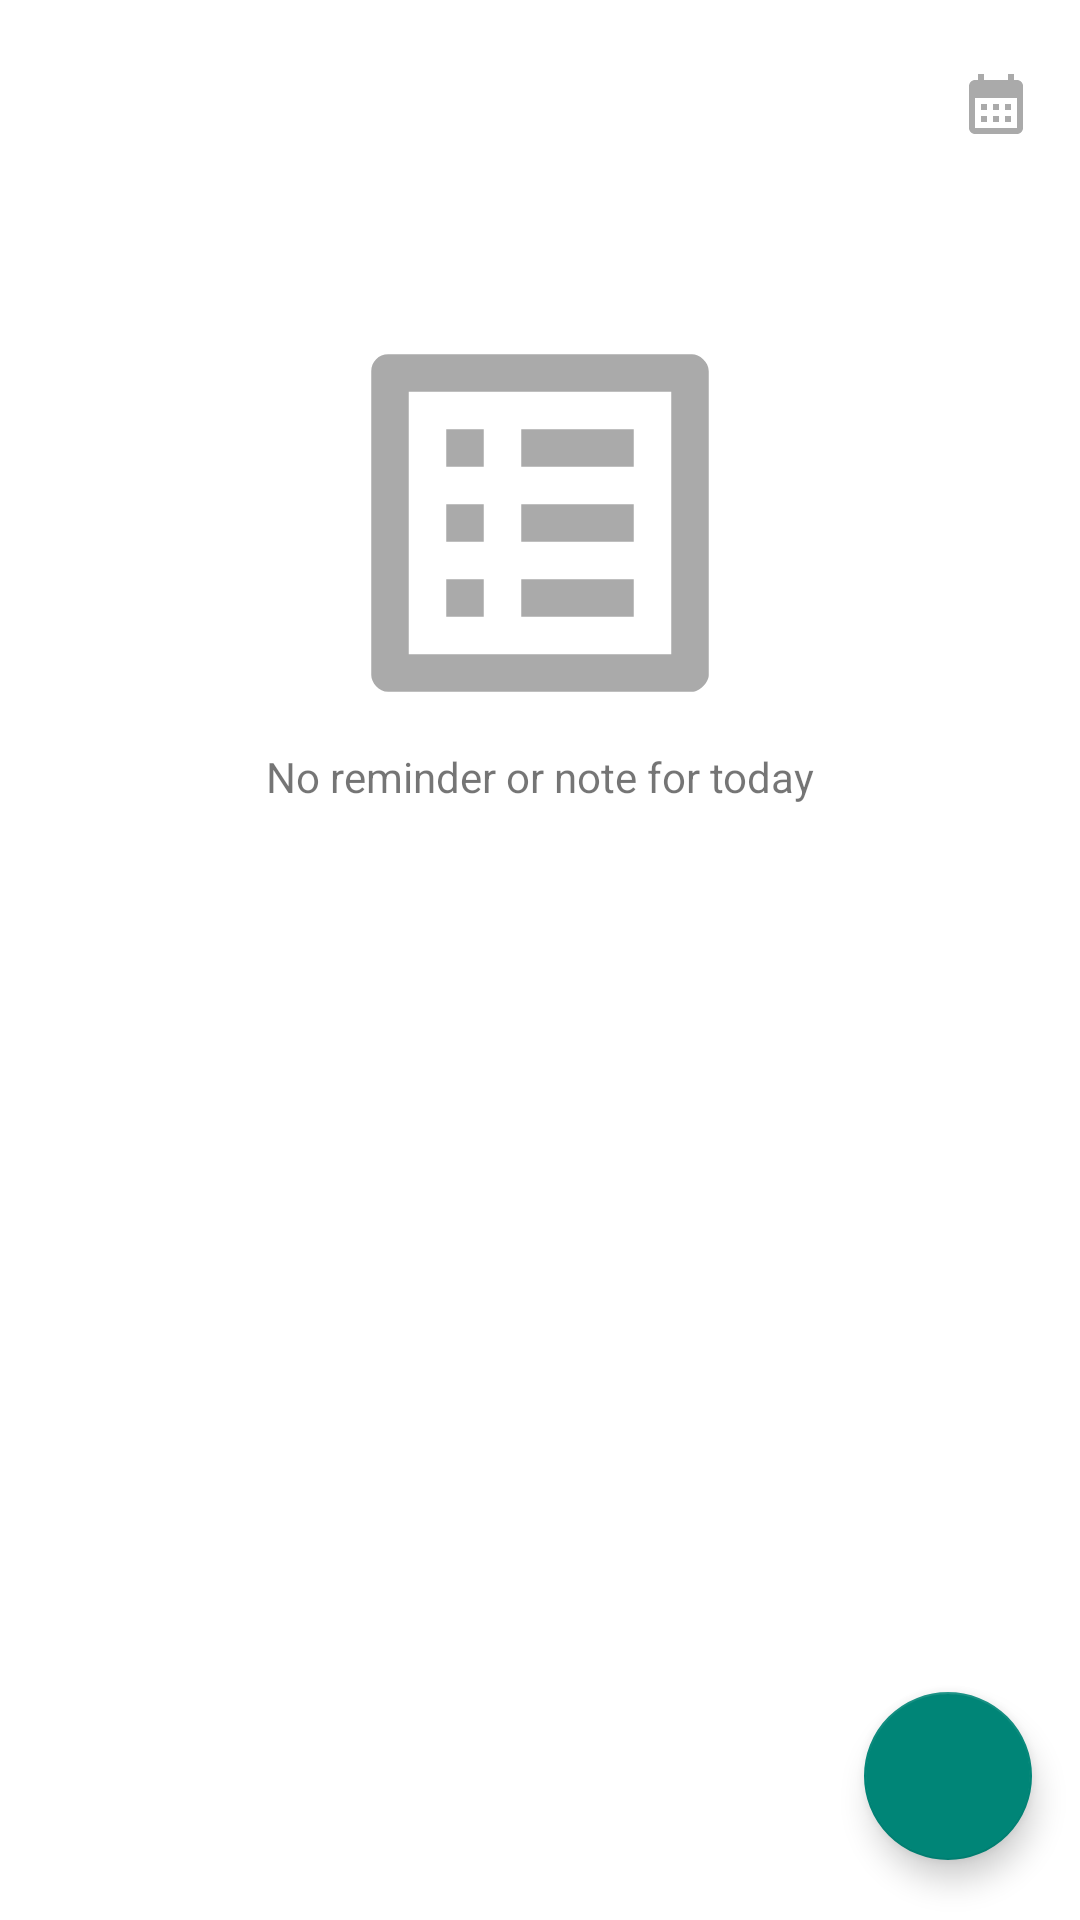

Where to tap for icons on this 1080 × 1920 app screen, as [x,y]:
calendar: [996,104]
empty note: [540,523]
